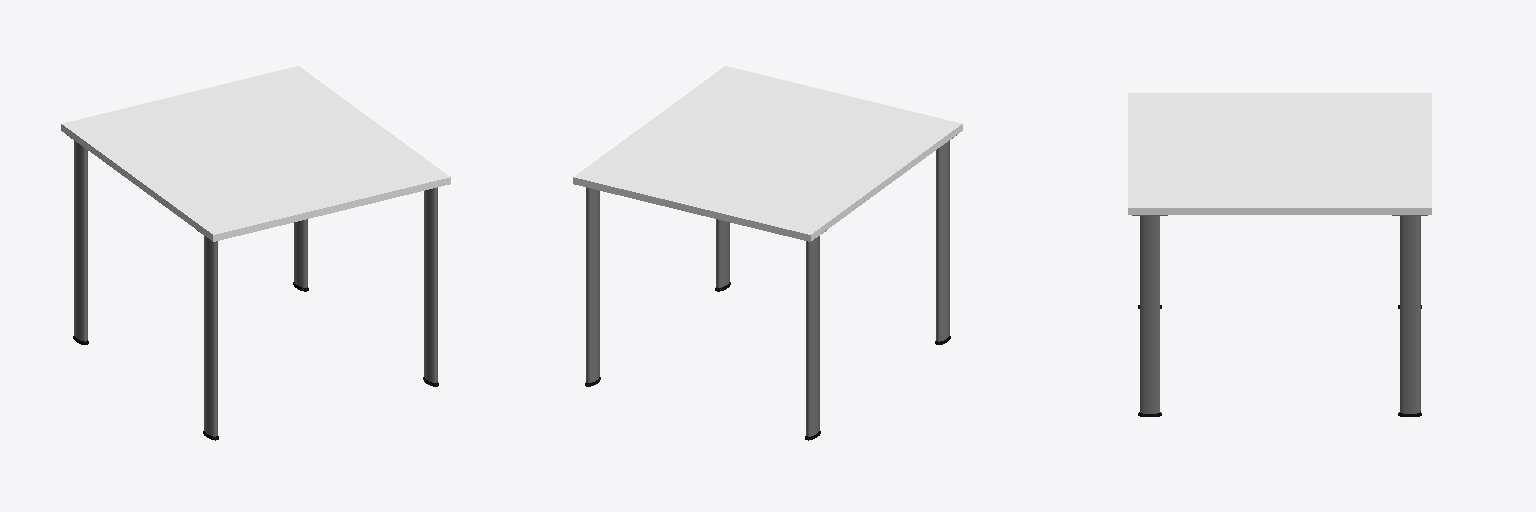
File: table_9010076.obj
3 renders of one model, left to right at view 1: azimuth 30°, elevation 25°; view 2: azimuth 150°, elevation 25°; view 3: azimuth 270°, elevation 25°, orthographic.
Parts seen in each view (by area): view 1: 1, 2, 4, 8, 6; view 2: 1, 4, 2, 6, 8; view 3: 1, 6, 8.
Boxes of the visible parts, box(x1,y1,x2,y2) form: 1: box(61, 66, 450, 241); 2: box(197, 230, 217, 436); 4: box(67, 135, 87, 341); 8: box(424, 187, 437, 382); 6: box(294, 219, 307, 287); 1: box(573, 66, 962, 241); 4: box(806, 230, 826, 436); 2: box(936, 135, 956, 341); 6: box(586, 187, 599, 382); 8: box(716, 219, 729, 287); 1: box(1128, 93, 1431, 214); 6: box(1392, 215, 1427, 413); 8: box(1132, 215, 1167, 413).
Size of the model in its own units: 90 by 76.5 by 100.